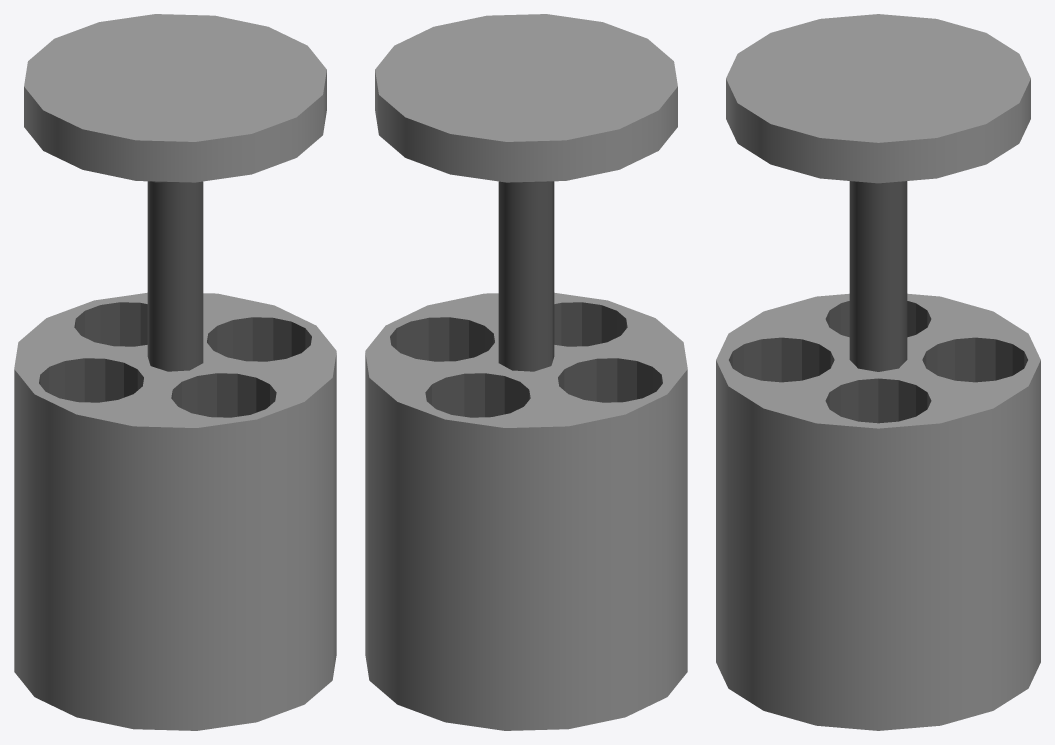
The model's file is SM_RocketBarrel.fbx.
3 views of the same model, side by side, from view 1: azimuth 30°, elevation 25°; view 2: azimuth 150°, elevation 25°; view 3: azimuth 270°, elevation 25° (orthographic).
Visible parts, largest first — view 1: Base.001, Top, Axis; view 2: Base.001, Top, Axis; view 3: Base.001, Top, Axis.
Boxes of the visible parts, x1=… form: Base.001: x1=14, y1=292, x2=336, y2=730; Top: x1=24, y1=14, x2=326, y2=182; Axis: x1=147, y1=181, x2=203, y2=371; Base.001: x1=365, y1=292, x2=687, y2=730; Top: x1=375, y1=14, x2=677, y2=182; Axis: x1=498, y1=181, x2=554, y2=371; Base.001: x1=716, y1=293, x2=1040, y2=730; Top: x1=726, y1=14, x2=1030, y2=183; Axis: x1=849, y1=181, x2=907, y2=371.
Bounding box in the file's own units: 1.57 × 3.11 × 1.57.
Materials: 1 (1 with a texture image).
